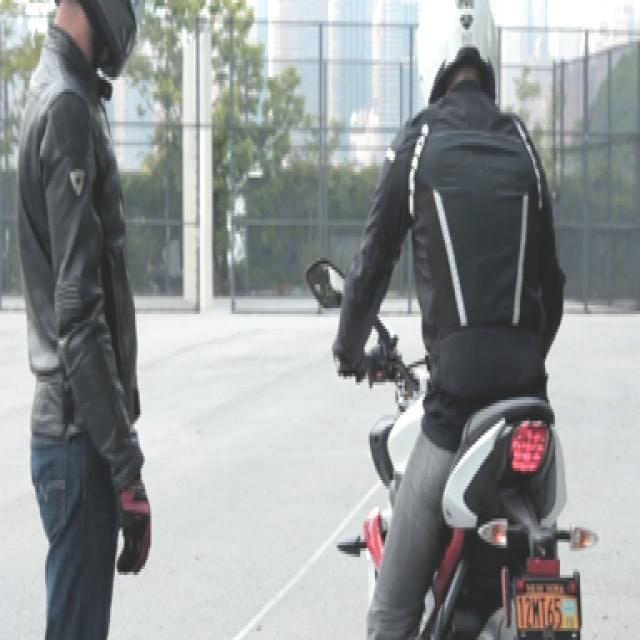Helmet: (413, 0, 511, 130)
